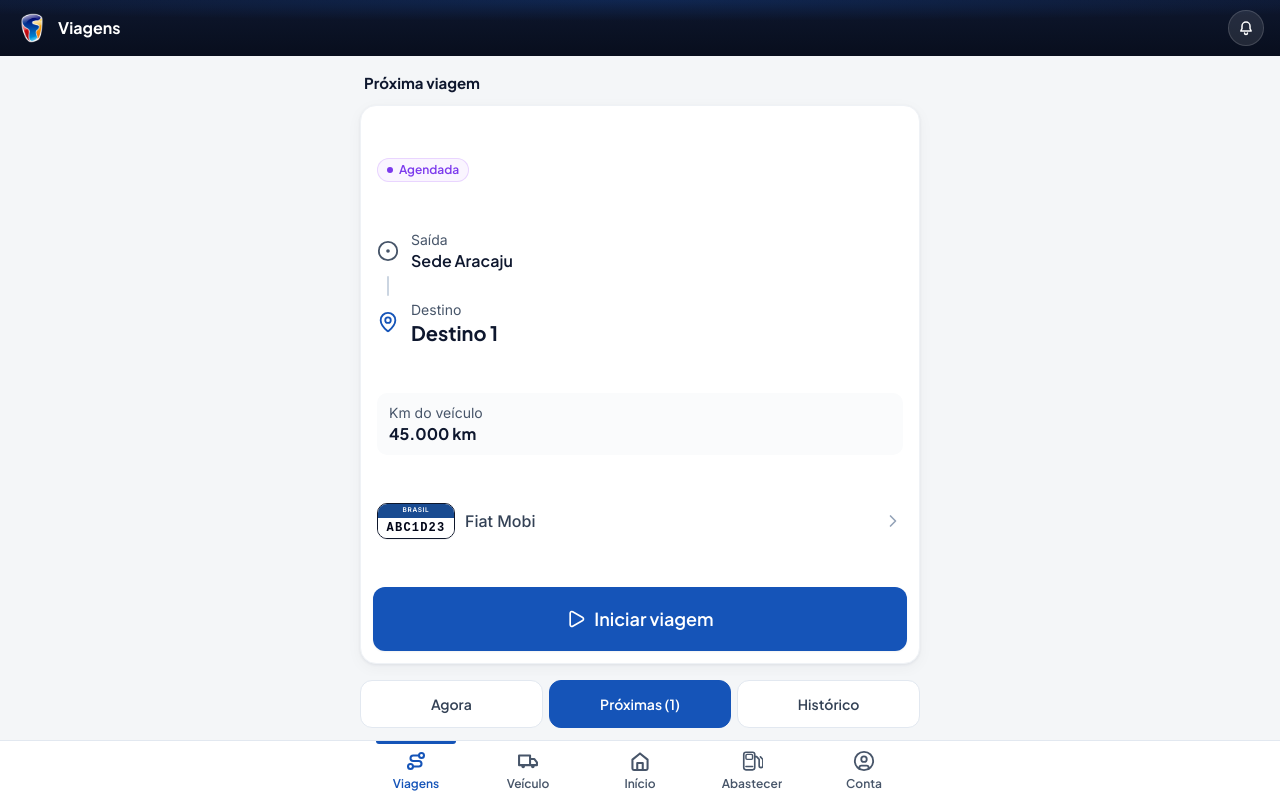
Test: Início e Viagens › abre os detalhes sem as ações de gestão
What coordinates should you click on to do the following:
click the button with aria-label "Ver detalhes: Destino 1"
I would click on:
 (640, 346)
Its box is [361,106,919,587].
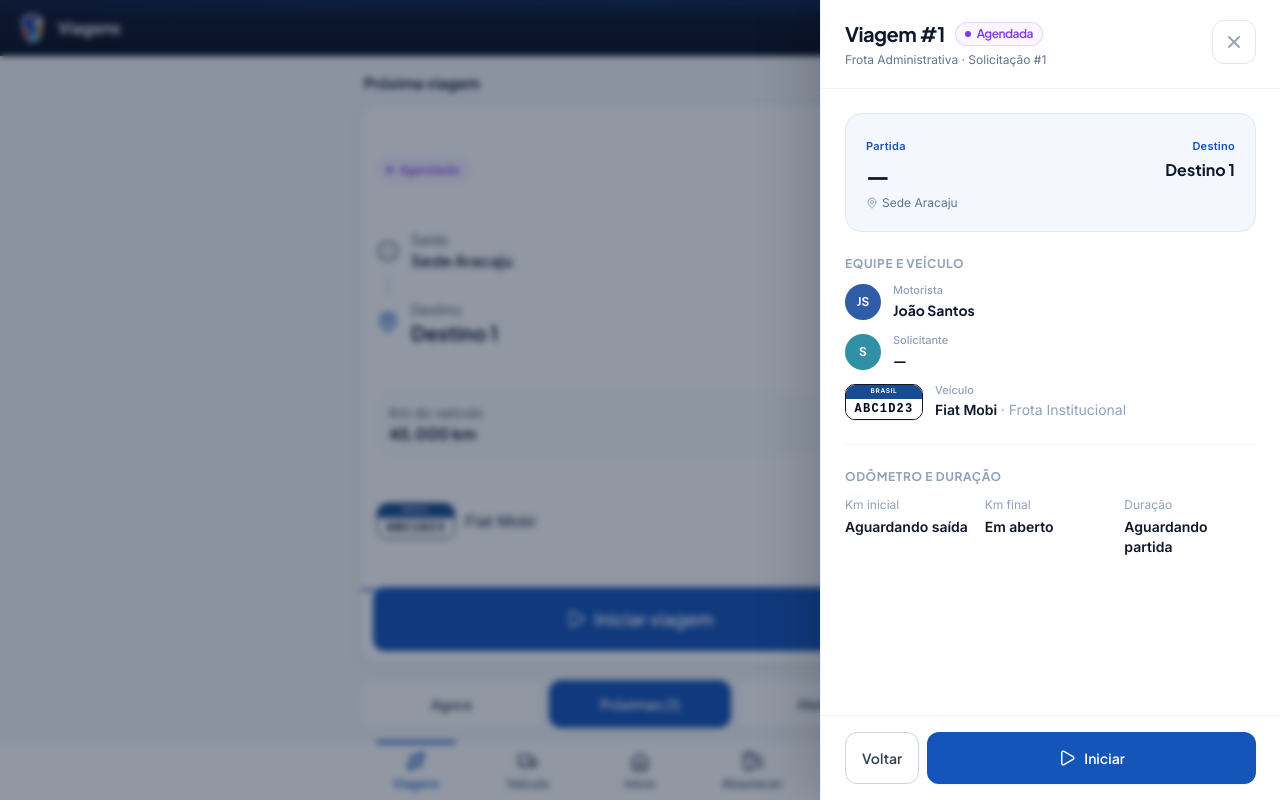
Expected: the button "Voltar" is shown, [845,732,919,784]
